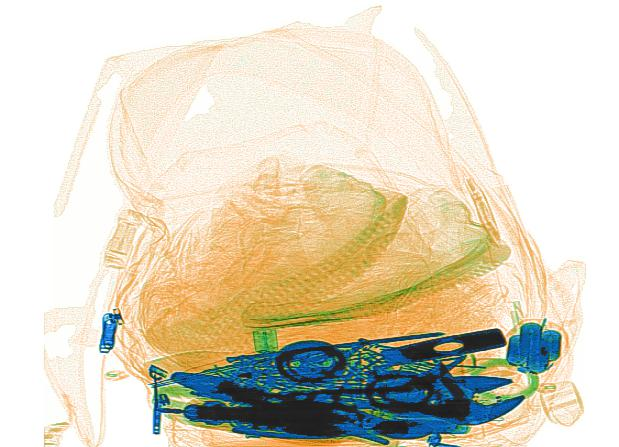battery: (506, 319, 563, 373)
